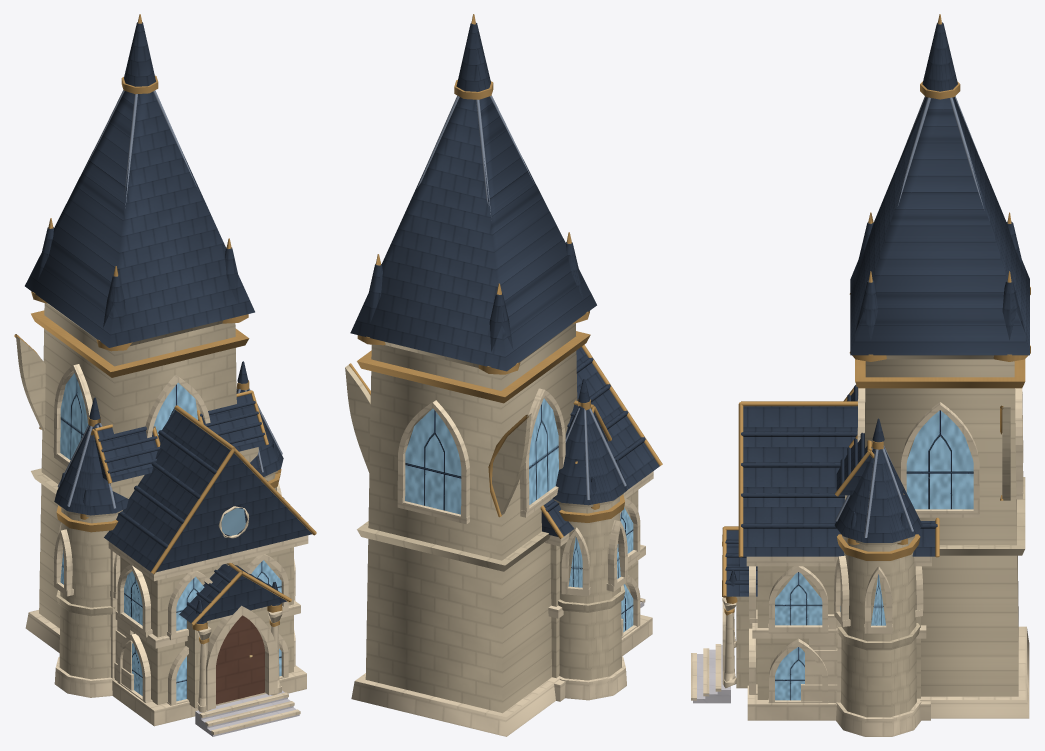
File: angelic-tower-far.glb
3 views of the same model, side by side, from view 1: azimuth 30°, elevation 25°; view 2: azimuth 150°, elevation 25°; view 3: azimuth 270°, elevation 25° (orthographic). The views are drawn at different scales.
Size of the model in its own units: 4.55 by 12.54 by 5.8.
Materials: 10 (10 with a texture image).
